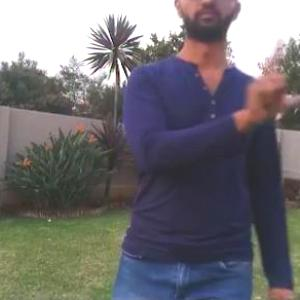land_hand: (238, 31, 299, 123)
